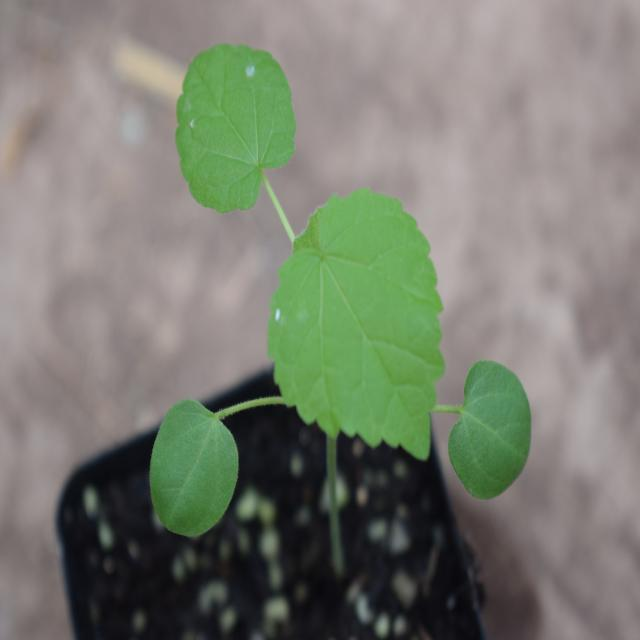abutilon theophrasti: (138, 33, 530, 560)
